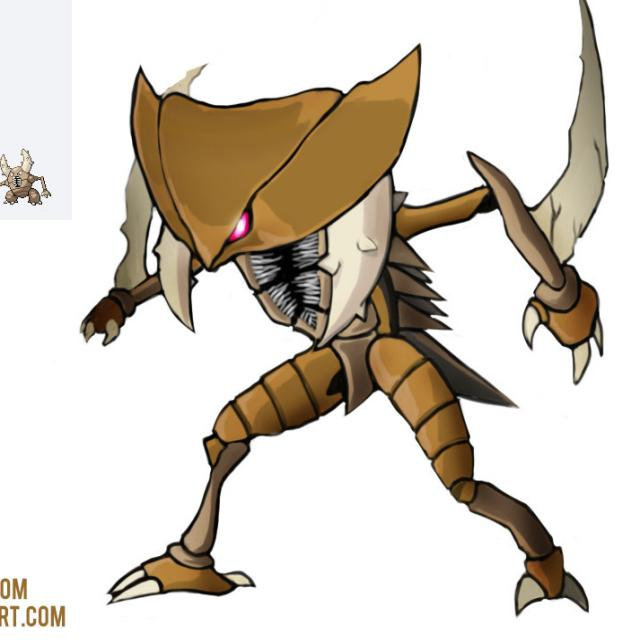Kabutops: (118, 52, 597, 565)
